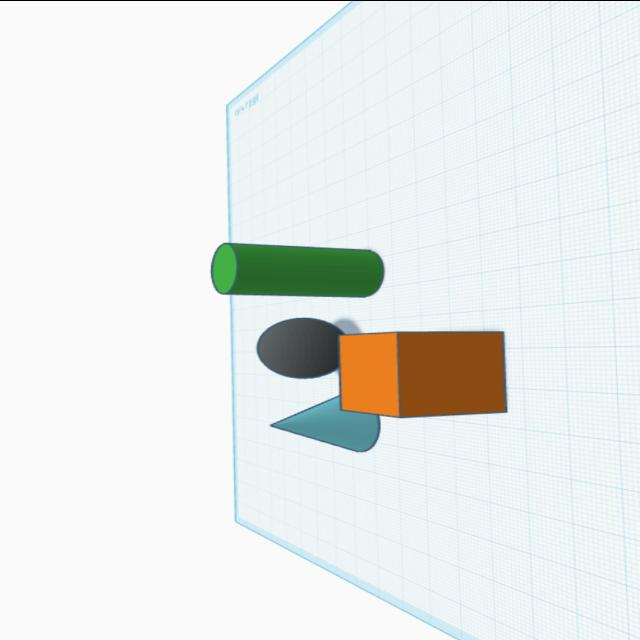cube: (333, 323, 515, 422)
